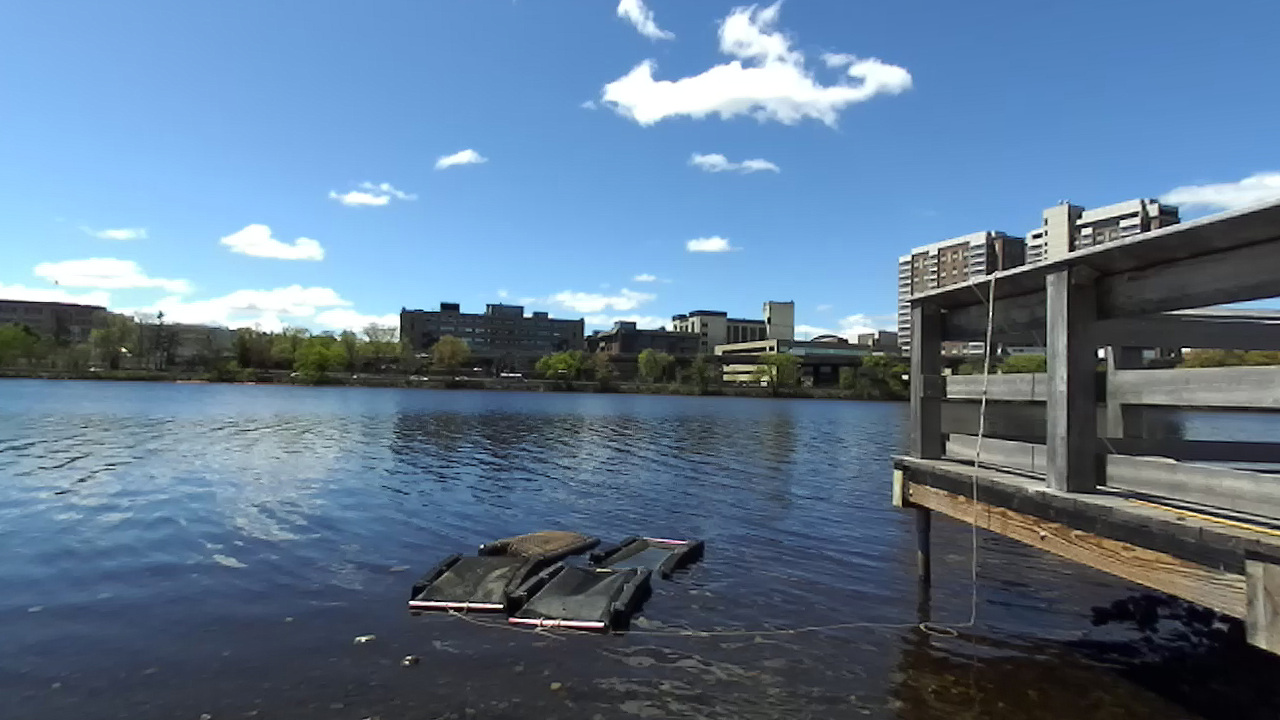bag: (508, 563, 650, 634), (408, 554, 535, 611), (589, 531, 700, 571), (479, 528, 595, 559)
